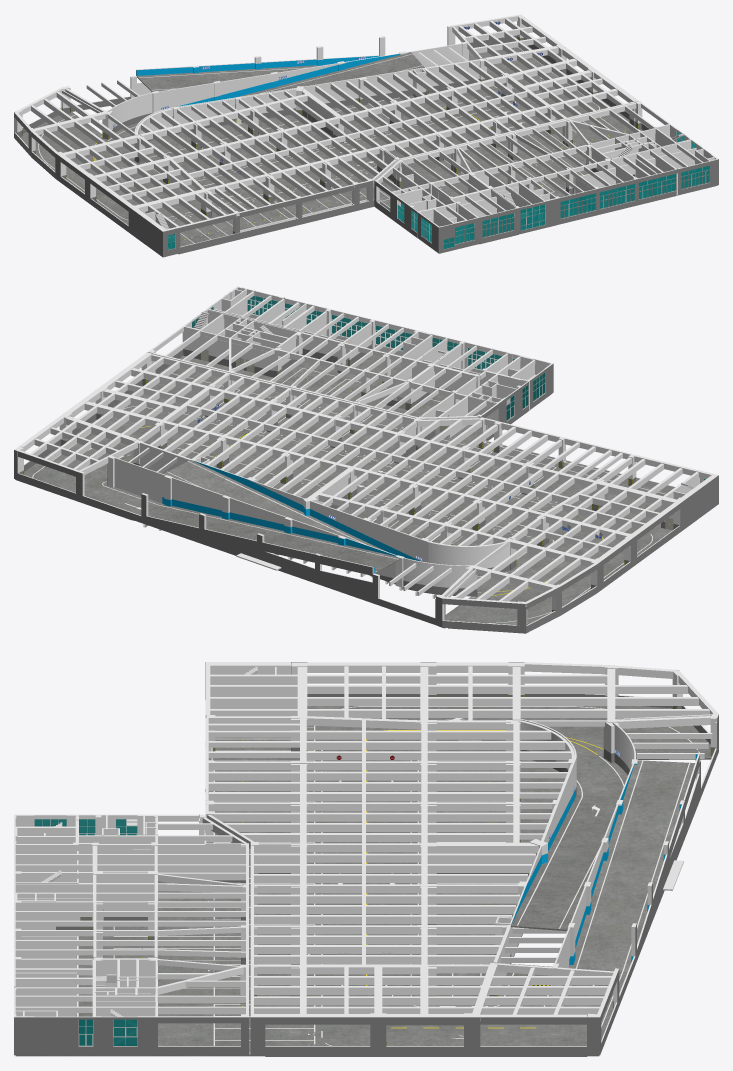
The picture shows the model from 3 angles, top to bottom: view 1: azimuth 30°, elevation 25°; view 2: azimuth 150°, elevation 25°; view 3: azimuth 270°, elevation 25°; orthographic projection. The views are drawn at different scales.
Visible parts, largest first — view 1: 矩形梁, 楼板, 内墙, 外墙踢脚线, 玻璃, 内柱, 车行道, 外墙, 不锈钢, 内墙踢脚线, 外墙柱, 车道外墙踢脚线 (+3 smaller); view 2: 矩形梁, 楼板, 内墙, 外墙踢脚线, 车行道, 内柱, 外墙, 车道踢脚线, 内墙踢脚线, 外墙柱, 玻璃, 路面标 (+2 smaller); view 3: 矩形梁, 楼板, 车行道, 外墙踢脚线, 内墙, 内柱, 外墙, 外墙柱, 停车位, 路面标, 玻璃, 车道踢脚线 (+2 smaller).
Part boxes in pixels (x1,y1,x2,y2): 矩形梁: (14,15,703,229); 楼板: (20,45,717,254); 内墙: (60,43,714,237); 外墙踢脚线: (14,35,718,257); 玻璃: (167,131,709,249); 内柱: (102,41,611,231); 车行道: (137,52,424,97); 外墙: (14,25,718,247); 不锈钢: (167,131,709,249); 内墙踢脚线: (102,79,598,217); 外墙柱: (14,14,642,233); 车道外墙踢脚线: (136,56,379,75); 矩形梁: (18,291,714,608); 楼板: (15,350,672,633); 内墙: (114,289,699,620); 外墙踢脚线: (14,297,718,632); 车行道: (132,460,400,573); 内柱: (107,331,718,589); 外墙: (18,286,715,625); 车道踢脚线: (162,460,420,561); 内墙踢脚线: (134,344,673,596); 外墙柱: (14,308,685,625); 玻璃: (192,294,705,480); 路面标: (32,406,652,623); 矩形梁: (15,662,718,1017); 楼板: (15,706,711,1056); 车行道: (510,760,694,971); 外墙踢脚线: (14,662,718,1056); 内墙: (15,667,711,1017); 内柱: (73,662,637,1005); 外墙: (14,662,716,1046); 外墙柱: (14,662,718,1020); 停车位: (113,725,518,1052); 路面标: (321,706,699,1045); 玻璃: (34,819,137,1045); 车道踢脚线: (511,762,637,966).
Bounding box in the file's own units: 104 × 7.44 × 87.26.
Materials: 473 (2 with a texture image).
